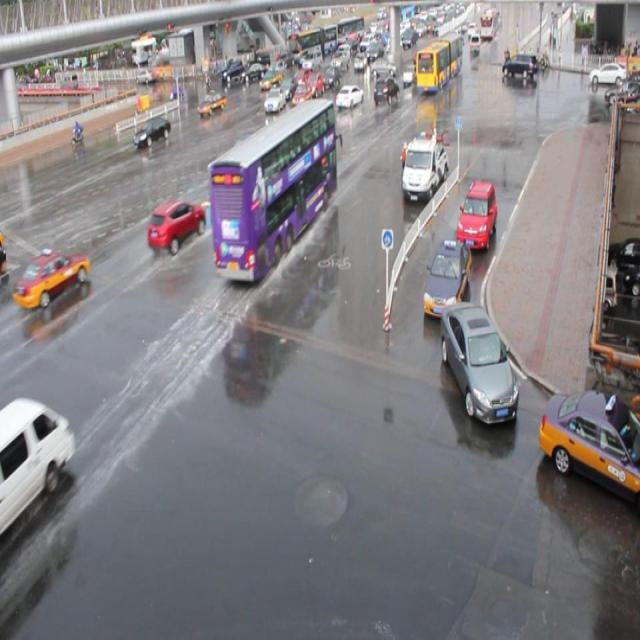BigCar: (206, 94, 350, 289), (412, 32, 469, 98)
car: (543, 368, 640, 520), (432, 290, 516, 438), (9, 242, 94, 315), (422, 230, 479, 320), (133, 190, 206, 256), (397, 123, 446, 214), (454, 175, 502, 267), (499, 43, 540, 97), (128, 110, 171, 160), (582, 53, 627, 98), (191, 87, 227, 130), (368, 73, 402, 117), (331, 77, 358, 111)
